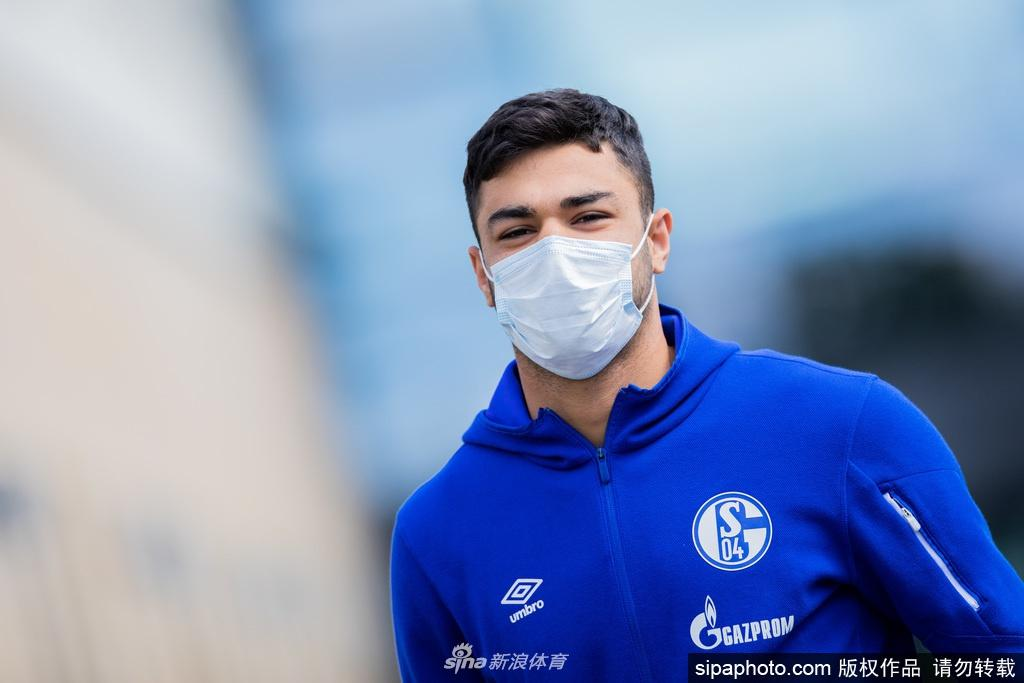mask: (471, 114, 655, 377)
